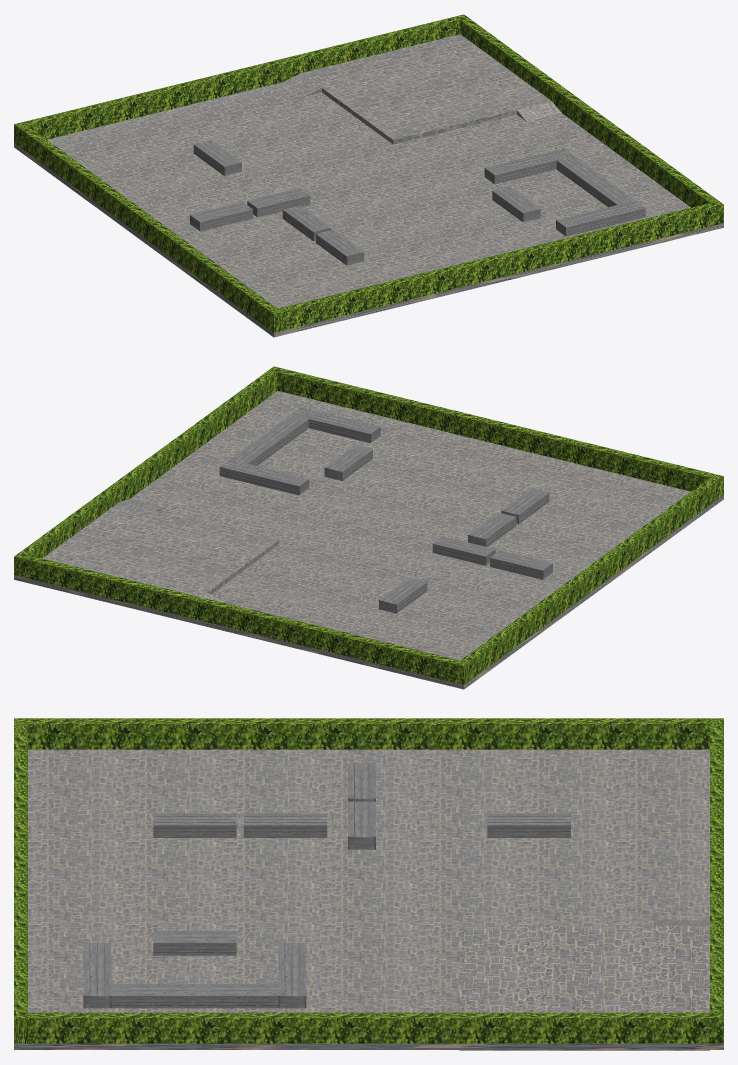
File: Map.gltf
3 views of the same model, one above another, from view 1: azimuth 30°, elevation 25°; view 2: azimuth 150°, elevation 25°; view 3: azimuth 270°, elevation 25° (orthographic). The views are drawn at different scales.
Parts seen in each view (by area): view 1: fleorst0ug9hifbngev, learkshgbxd7u8oete43rgfiw, nhmigfojgun8jn65r; view 2: fleorst0ug9hifbngev, learkshgbxd7u8oete43rgfiw, nhmigfojgun8jn65r; view 3: fleorst0ug9hifbngev, learkshgbxd7u8oete43rgfiw, nhmigfojgun8jn65r.
Boxes of the visible parts, box(x1,y1,x2,y2) form: fleorst0ug9hifbngev: box(14, 34, 723, 337); learkshgbxd7u8oete43rgfiw: box(14, 14, 723, 332); nhmigfojgun8jn65r: box(190, 140, 645, 265); fleorst0ug9hifbngev: box(14, 391, 723, 689); learkshgbxd7u8oete43rgfiw: box(14, 366, 723, 684); nhmigfojgun8jn65r: box(219, 407, 552, 613); fleorst0ug9hifbngev: box(14, 749, 723, 1050); learkshgbxd7u8oete43rgfiw: box(14, 718, 723, 1043); nhmigfojgun8jn65r: box(83, 763, 570, 1008).
Size of the model in its own units: 51 by 3 by 51.
Materials: 3 (3 with a texture image).
